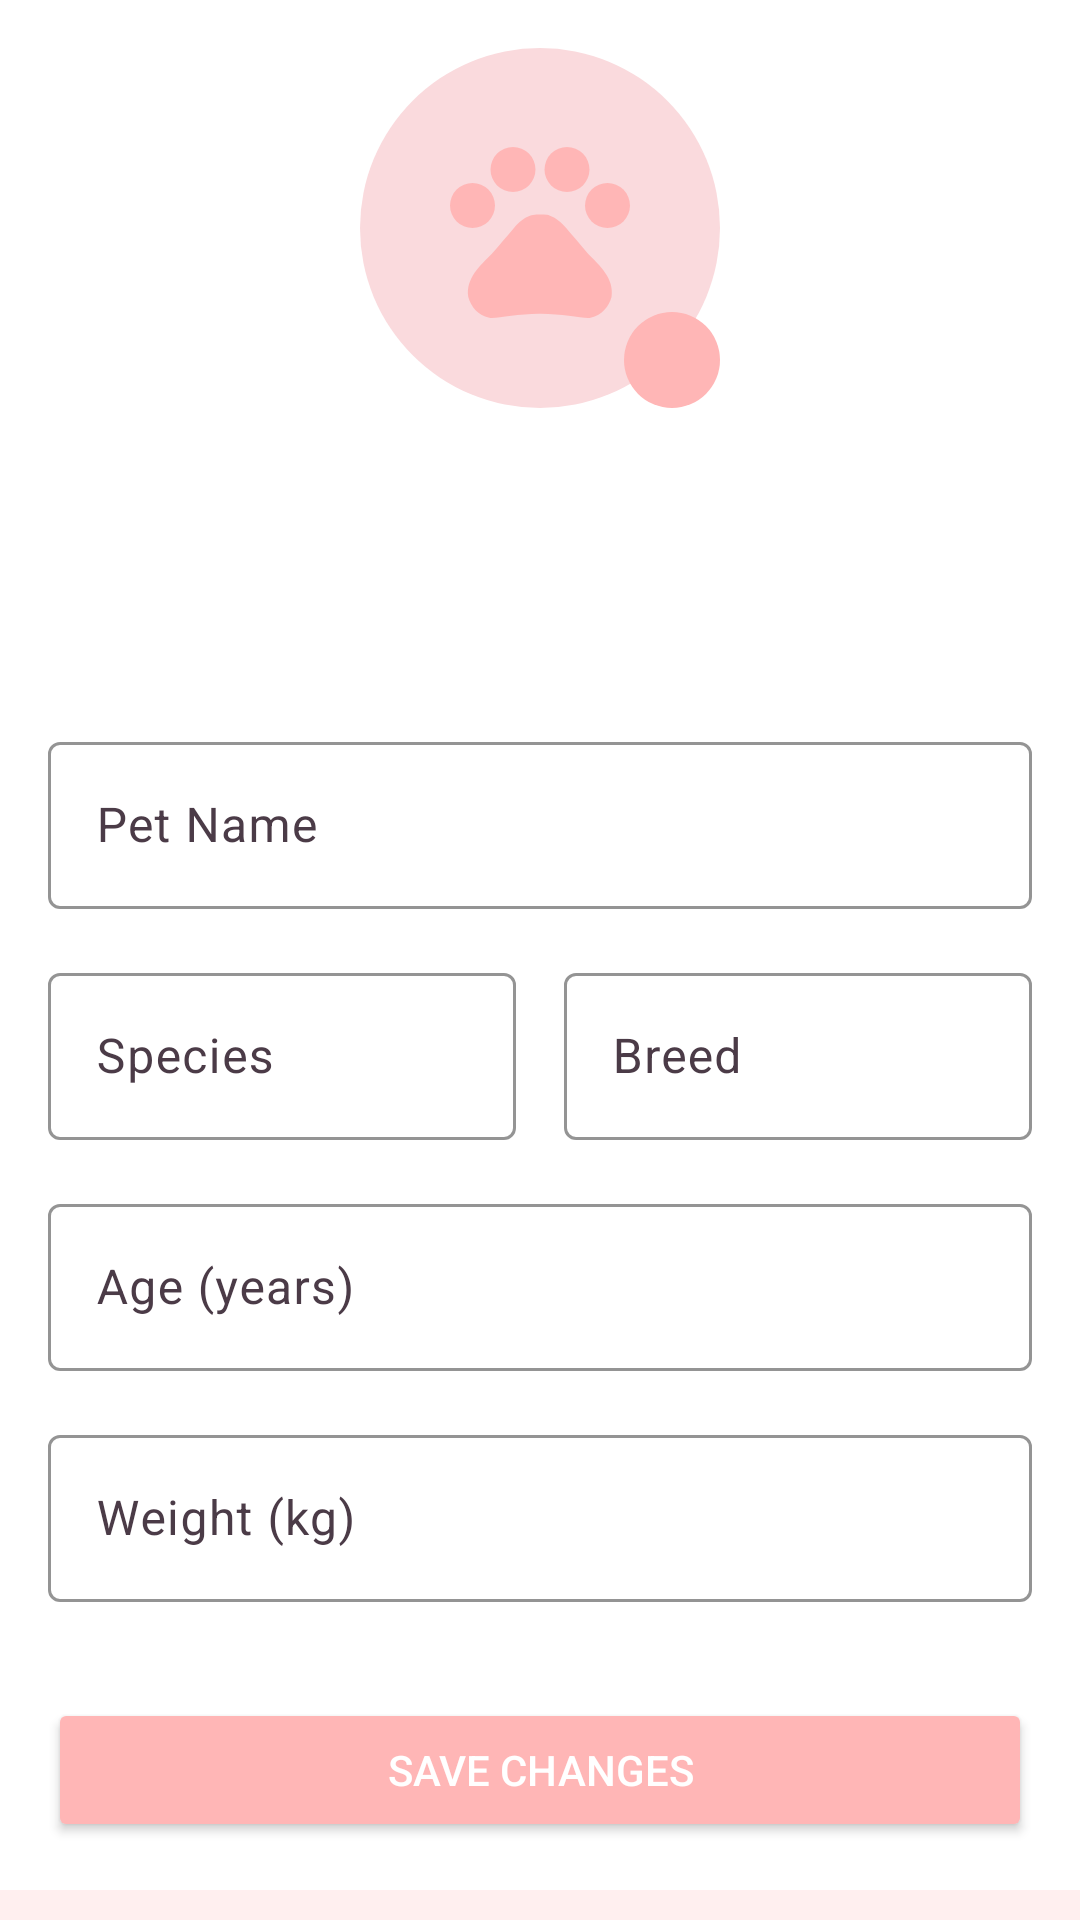

Icon click points for this 1080 × 1920 phone screenshot, format [x,y]:
paw: [540,228]
